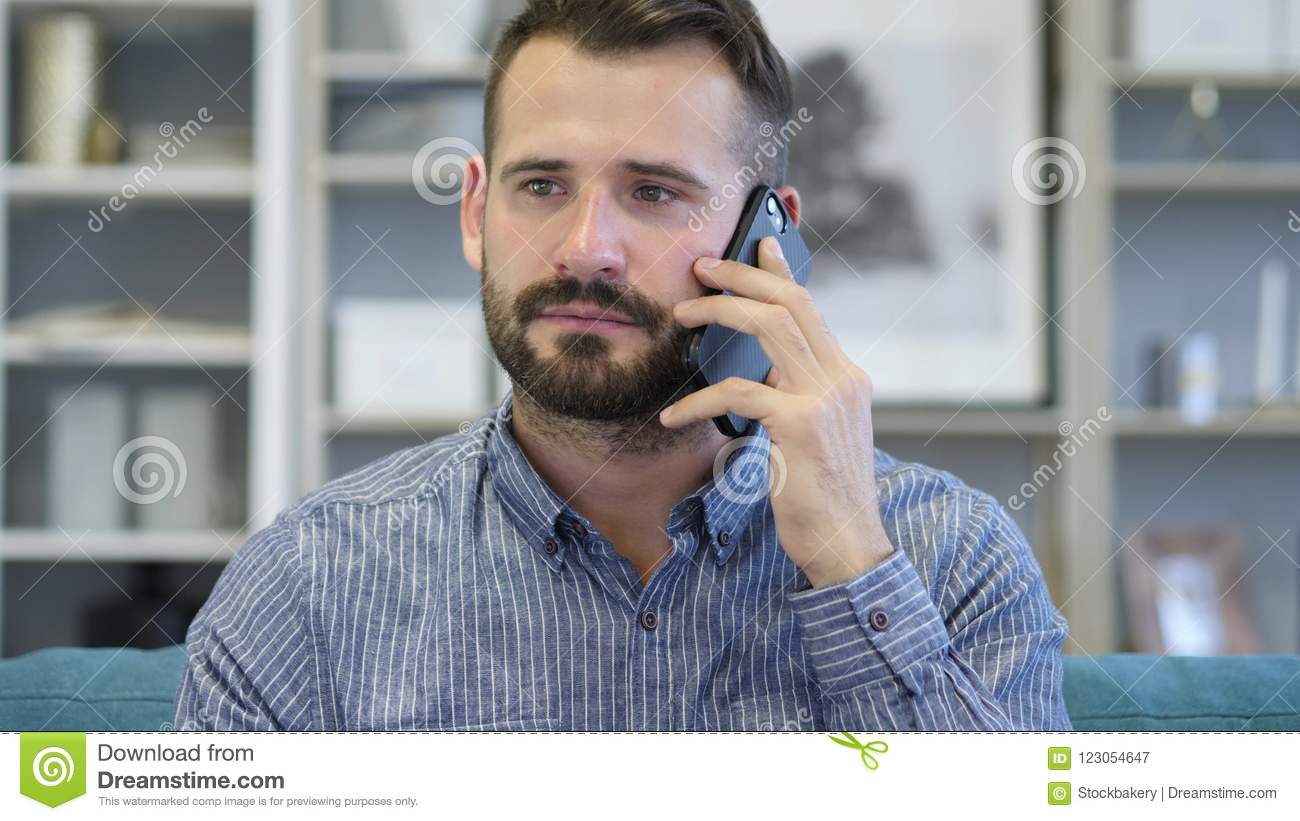phone: (681, 184, 813, 440)
talk: (480, 148, 891, 571)
